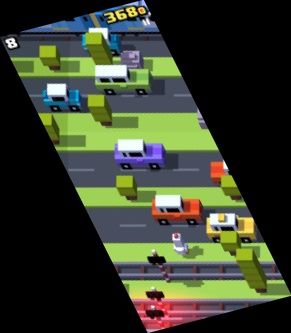car: (94, 65, 155, 96), (115, 138, 166, 171), (152, 195, 204, 227), (209, 157, 255, 186), (42, 83, 84, 112), (81, 27, 122, 55)
duck: (171, 231, 190, 257)
light off: (146, 248, 173, 284)
light on: (146, 287, 174, 322), (146, 305, 168, 333)
rail: (2, 20, 177, 40), (109, 261, 287, 280), (130, 298, 291, 316), (131, 317, 207, 333)
rock: (197, 106, 223, 130), (121, 51, 144, 71)
train: (7, 1, 175, 35)
tree: (237, 247, 268, 295), (85, 33, 114, 71), (87, 93, 113, 127), (34, 114, 60, 145), (39, 45, 62, 72), (220, 229, 241, 258), (116, 175, 138, 202)
